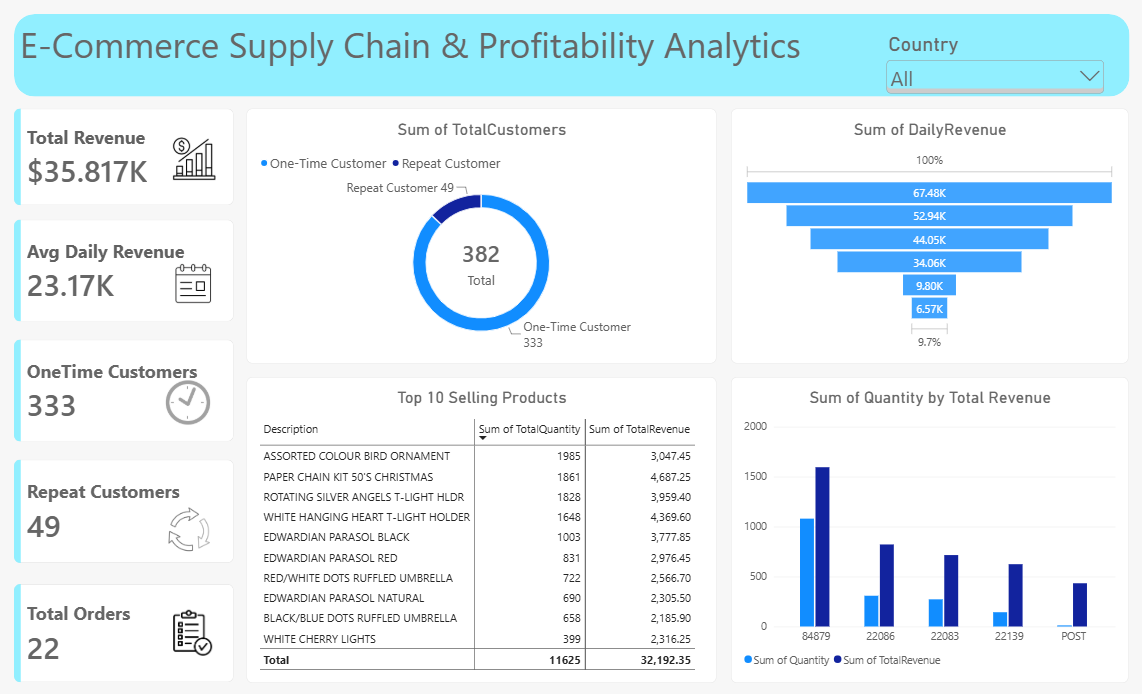

This screenshot's page, from the dashboard's own definition file:
{"tool":"powerbi","page":{"name":"Page 1","canvas":[1920,2000],"ordinal":0},"visuals":[{"type":"shape","box":[23.5,39.9,1487.5,110.3],"z":0},{"type":"cardVisual","fields":{"Data":["Sum(fact_sales.TotalRevenue)"]},"box":[23.5,314.4,293.3,136.1],"z":1000},{"type":"cardVisual","fields":{"Data":["top_customers.OneTime Customers"]},"box":[23.5,473.9,293.3,136.1],"z":2000},{"type":"cardVisual","fields":{"Data":["top_customers.Repeat Customers"]},"box":[23.5,633.5,293.3,138.4],"z":3000},{"type":"cardVisual","fields":{"Data":["customer_retention.Total Order"]},"box":[23.5,800.1,293.3,131.4],"z":4000},{"type":"waterfallChart","fields":{"Category":["monthly_revenue.MonthlyRevenue"],"Y":["Sum(monthly_revenue.YearMonth)"]},"box":[32.8,1466.4,734.4,312],"z":5000},{"type":"funnel","title":"Sum of DailyRevenue ","fields":{"Category":["daily_revenue.SalesDate"],"Y":["Sum(daily_revenue.DailyRevenue)"]},"box":[980.7,166.6,530,340.2],"z":6000},{"type":"donutChart","title":"Sum of TotalCustomers ","fields":{"Category":["customer_retention.CustomerType"],"Y":["Sum(customer_retention.TotalCustomers)"]},"box":[333.2,166.6,626.4,340.2],"z":7000},{"type":"pivotTable","fields":{"Rows":["top_customers.Country","top_customers.CustomerID"],"Values":["Sum(top_customers.TotalSpent)"]},"box":[23.5,950.2,298,499.7],"z":8000},{"type":"cardVisual","fields":{"Data":["customer_retention.Avg Daily Revenue"]},"box":[23.5,166.6,293.3,129],"z":9000},{"type":"treemap","fields":{"Details":["top_customers.Country"],"Values":["monthly_revenue.Total Revenuee"]},"box":[786,1278.7,725,504.4],"z":10000},{"type":"tableEx","title":"Top 10 Selling Products","fields":{"Values":["Top_product.Description","Sum(Top_product.TotalQuantity)","Sum(Top_product.TotalRevenue)"]},"box":[333.2,523.2,626.4,408.2],"z":11000},{"type":"scatterChart","title":"Average of Price by OrderStatus","fields":{"X":["Avg(fact_sales (2).Price)"],"Y":["Sum(fact_sales (2).Quantity)"],"Category":["fact_sales (2).StockCode"],"Series":["fact_sales (2).OrderStatus"],"Size":["Sum(fact_sales (2).TotalRevenue)"]},"box":[980.7,523.2,530.2,408.2],"z":12000},{"type":"gauge","fields":{"Y":["Sum(fact_sales (2).Invoice)"]},"box":[333.2,950.2,434.1,499.7],"z":13000},{"type":"pivotTable","fields":{"Values":["Min(fact_sales (2).StockCode)","Avg(fact_sales (2).Price)","Sum(fact_sales (2).Quantity)","Sum(fact_sales (2).TotalRevenue)","Sum(fact_sales (2).Invoice)"],"Rows":["fact_sales (2).Country"]},"box":[786,950.2,725,314.4],"z":14000},{"type":"slicer","fields":{"Values":["fact_sales (2).Country"]},"box":[1182.5,63.3,300.3,86.8],"z":15000},{"type":"image","box":[173.6,199.4,180.7,65.7],"z":15002},{"type":"image","box":[131.4,823.5,251,82.1],"z":15007},{"type":"image","box":[152.5,694.5,211.2,65.7],"z":15009},{"type":"image","box":[154.9,363.7,218.2,70.4],"z":15010},{"type":"image","box":[154.9,523.2,204.1,68],"z":15011}]}

Visuals, with their boxes on the page's 1920x2000 design canvas (x1, y1, x2, y2). These are canvas units, not pixel positions in the 1142x694 screenshot, which may show the page scaled, cropped or inside an application window:
shape: <box>24,40,1511,150</box>
cardVisual - Sum(fact_sales.TotalRevenue): <box>24,314,317,450</box>
cardVisual - top_customers.OneTime Customers: <box>24,474,317,610</box>
cardVisual - top_customers.Repeat Customers: <box>24,634,317,772</box>
cardVisual - customer_retention.Total Order: <box>24,800,317,932</box>
waterfallChart - monthly_revenue.MonthlyRevenue x Sum(monthly_revenue.YearMonth): <box>33,1466,767,1778</box>
"Sum of DailyRevenue " funnel: <box>981,167,1511,507</box>
"Sum of TotalCustomers " donutChart: <box>333,167,960,507</box>
pivotTable - top_customers.Country x top_customers.CustomerID: <box>24,950,322,1450</box>
cardVisual - customer_retention.Avg Daily Revenue: <box>24,167,317,296</box>
treemap - top_customers.Country x monthly_revenue.Total Revenuee: <box>786,1279,1511,1783</box>
"Top 10 Selling Products" tableEx: <box>333,523,960,931</box>
"Average of Price by OrderStatus" scatterChart: <box>981,523,1511,931</box>
gauge - Sum(fact_sales (2).Invoice): <box>333,950,767,1450</box>
pivotTable - Min(fact_sales (2).StockCode) x Avg(fact_sales (2).Price): <box>786,950,1511,1265</box>
slicer - fact_sales (2).Country: <box>1182,63,1483,150</box>
image: <box>174,199,354,265</box>
image: <box>131,824,382,906</box>
image: <box>152,694,364,760</box>
image: <box>155,364,373,434</box>
image: <box>155,523,359,591</box>
